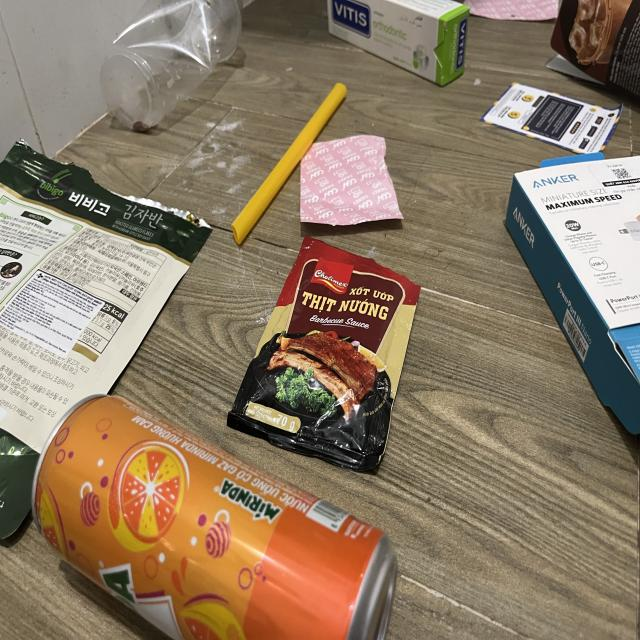can: (33, 391, 397, 640)
cardboard box: (501, 151, 640, 438), (327, 0, 466, 87)
drinking straw: (234, 84, 346, 246)
packet: (226, 232, 421, 470)
paper: (483, 82, 623, 152), (300, 134, 406, 225)
plastic glass: (101, 0, 242, 134)
snack package: (0, 138, 214, 542)
